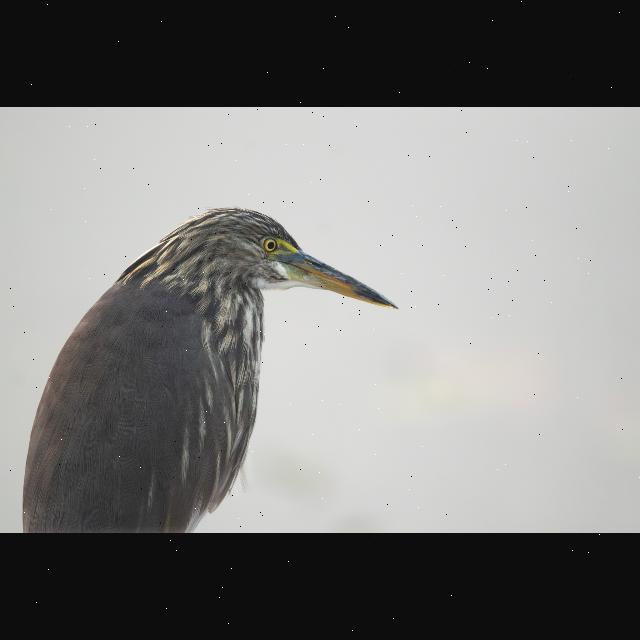heron: (22, 201, 404, 534)
